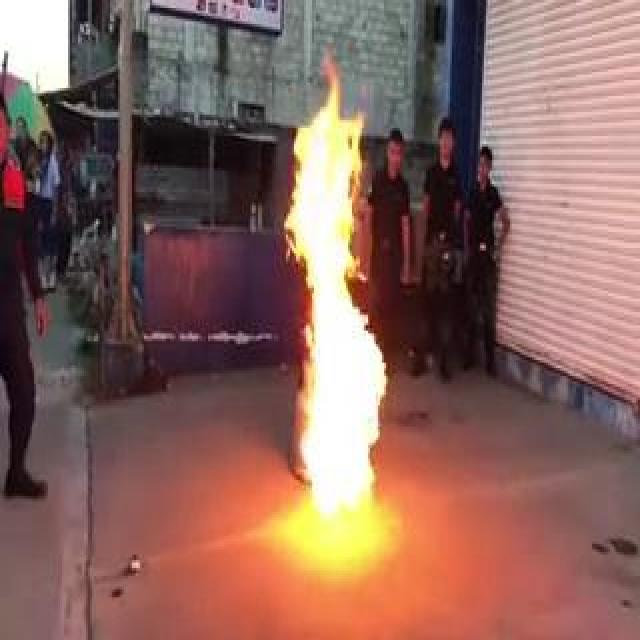Smoke: (275, 100, 383, 521)
